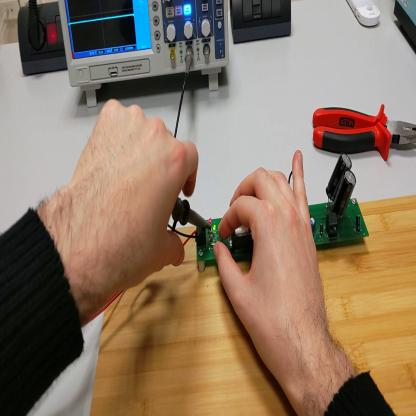hand: (214, 154, 332, 383), (68, 102, 201, 300)
high voltage board: (170, 152, 372, 262)
oscilloscope: (59, 1, 232, 106)
oscilloscope probe tip: (172, 199, 211, 231)
pliers: (315, 100, 415, 163)
socket: (17, 2, 67, 78)
working area: (94, 190, 416, 415)
